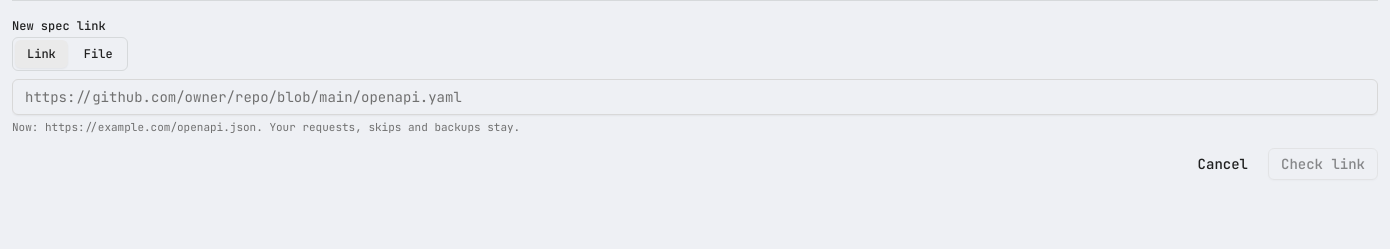
Test case: ChangeLinkForm › a_low_match_shows_the_warning
Type "https://example.com/other.json" into the field named "New spec link" at (695, 97), box [12,79,1378,115]
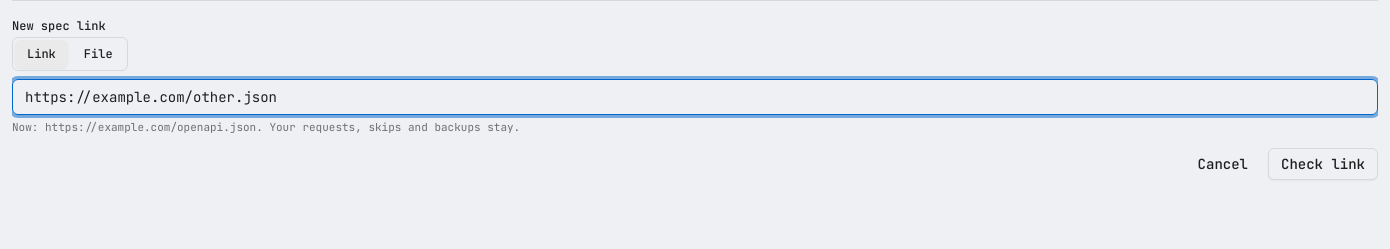
Click the button "Check link" at (1323, 164), box [1268,148,1378,180]
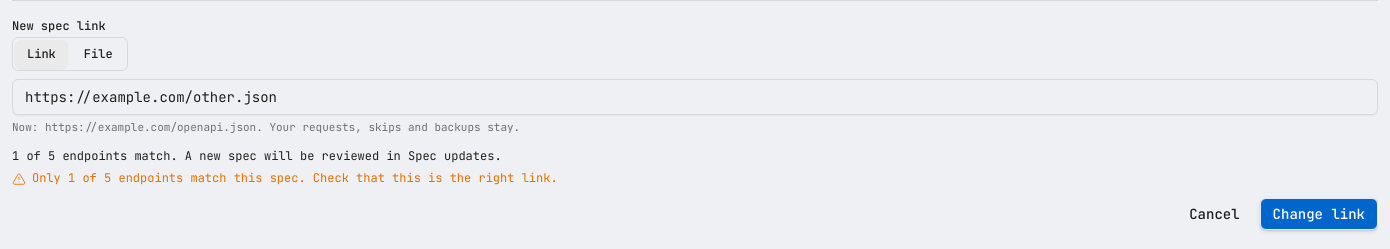
expect the text "Only 1 of 5 endpoints match this spec. Check that this is the right link." is shown: met, box [12,170,558,186]
